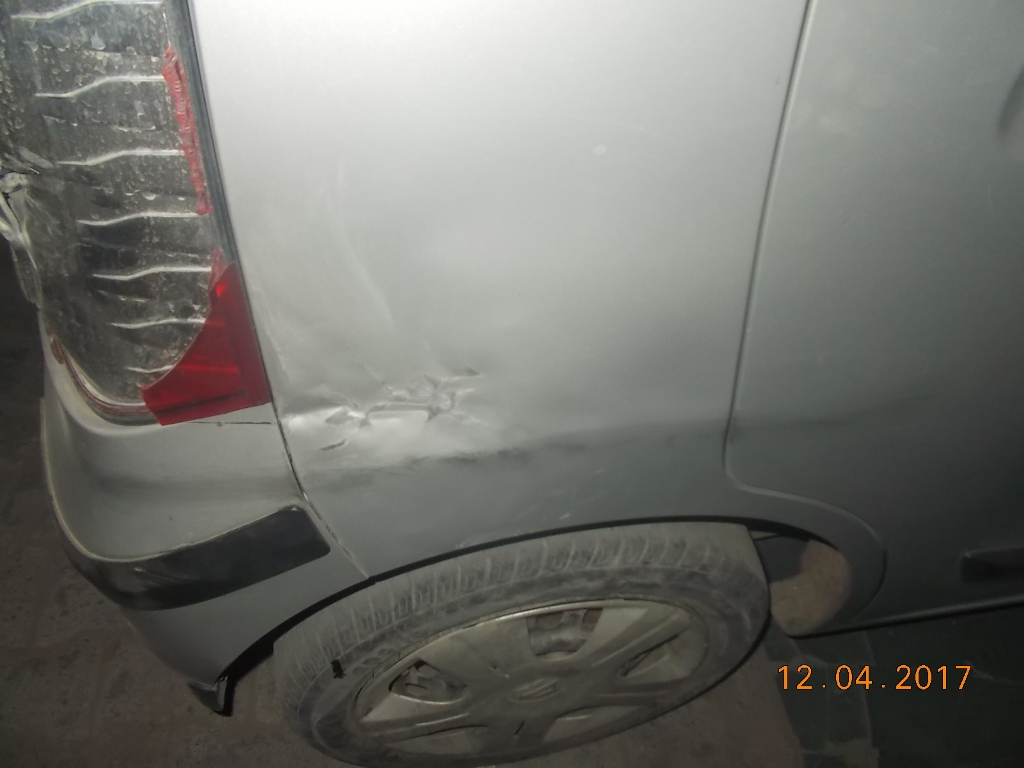Dent: (288, 350, 495, 463)
